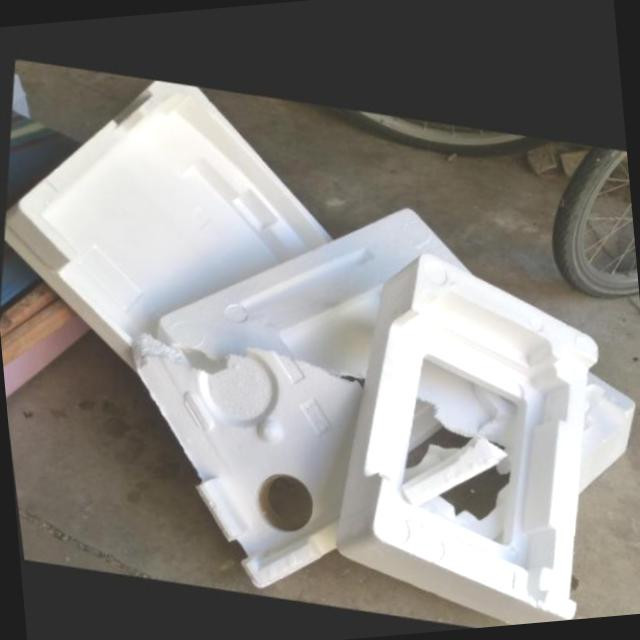xop: (130, 203, 460, 586), (331, 246, 595, 624), (2, 77, 331, 370), (573, 363, 631, 486)
